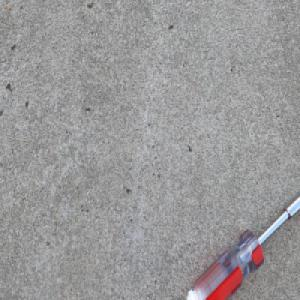Screwdriver: (183, 193, 300, 300)
